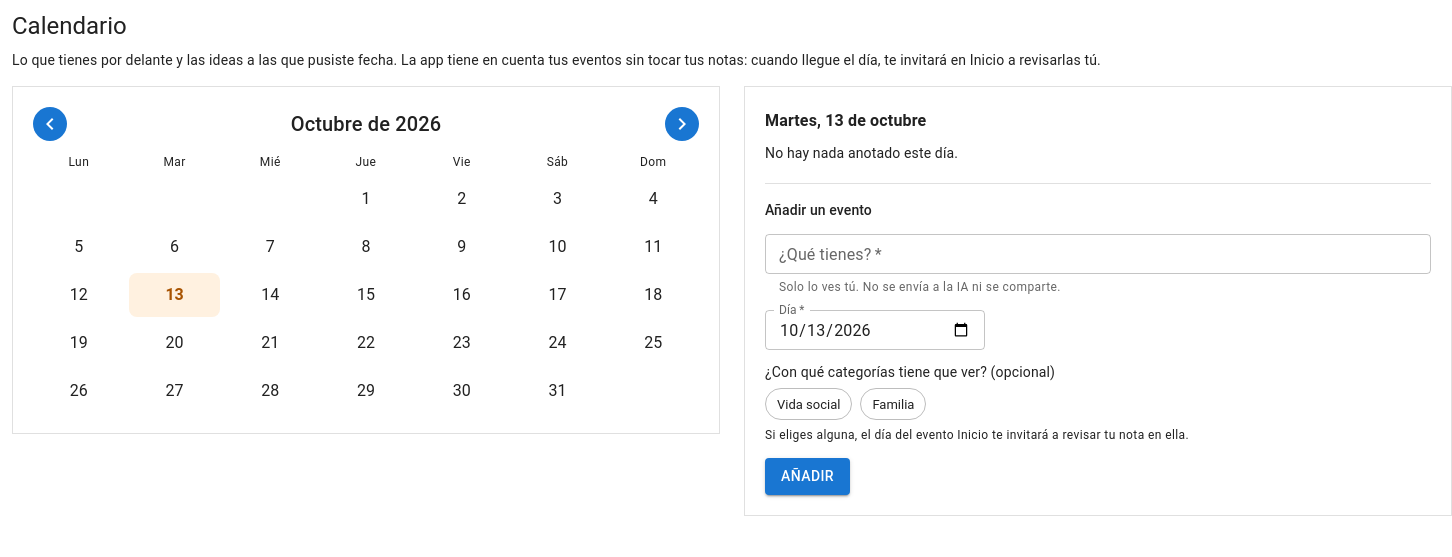
Test: CalendarPage (RF-48) › añade un evento en el día elegido, con varias categorías activas (las inactivas no se ofrecen), y aparece sin volver a pedir la lista
Click the button named "sábado, 24 de octubre" at (557, 343), box [512,321,603,365]
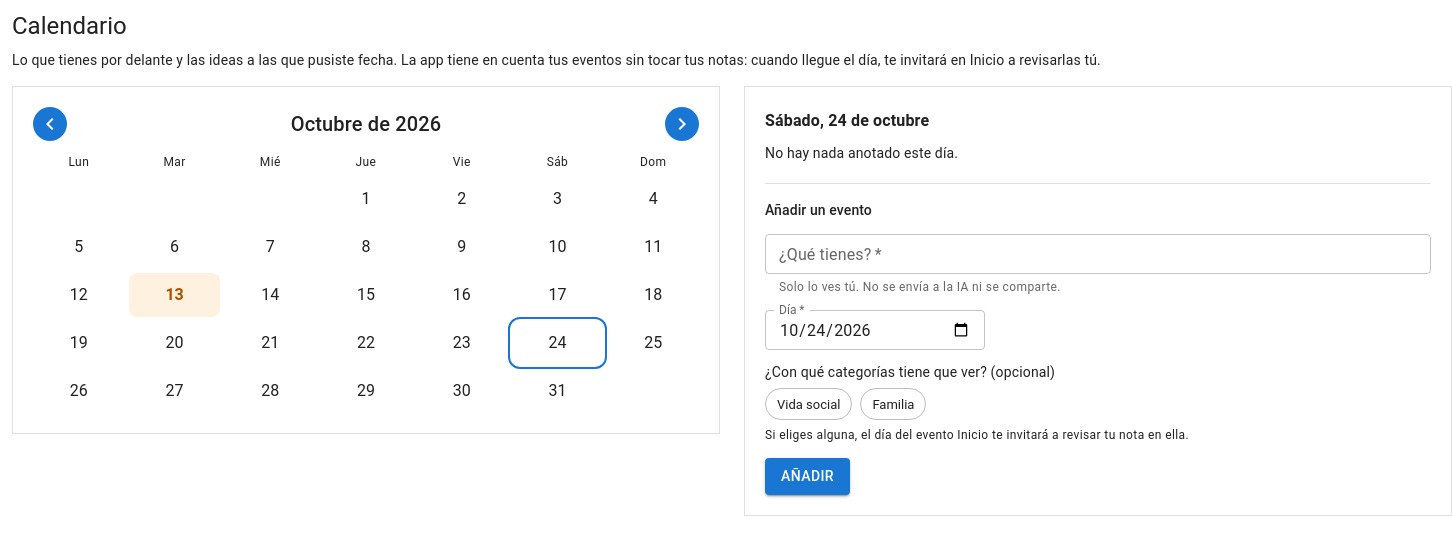
Type "Boda de Marta" into the field labelled "¿Qué tienes? *" at (1098, 254), box [765,234,1431,274]
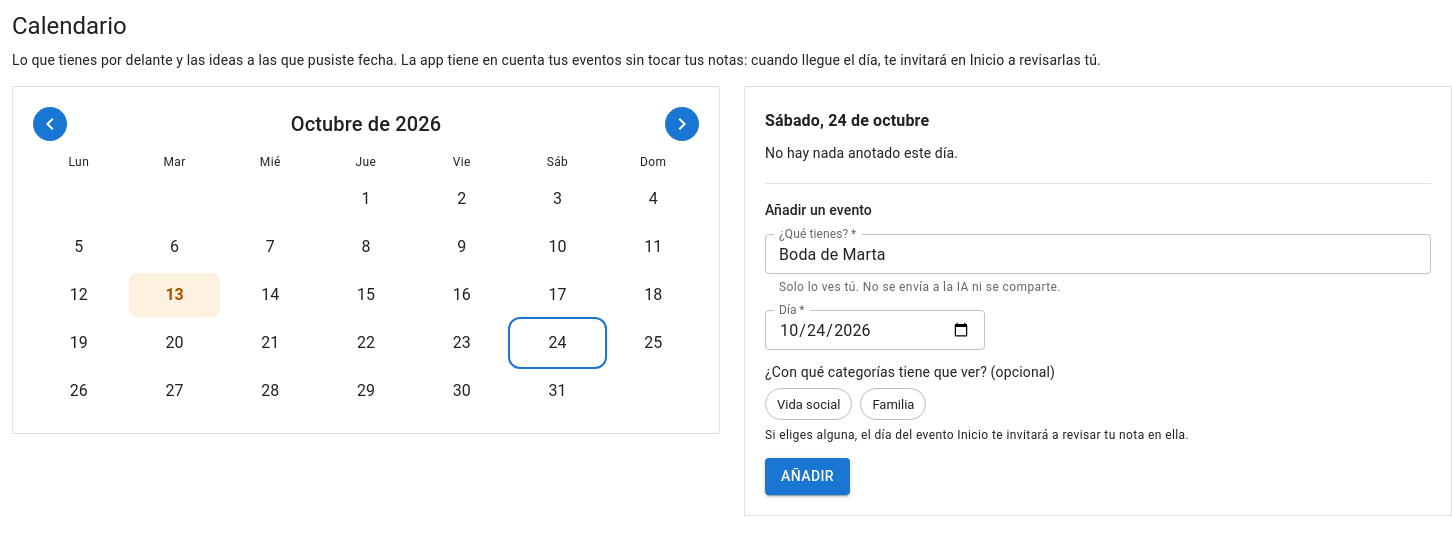
Check: the text "Si eliges alguna, el día del evento" is shown, box [765,428,1189,442]
Click the button "Vida social" at (809, 404), box [765,388,852,420]
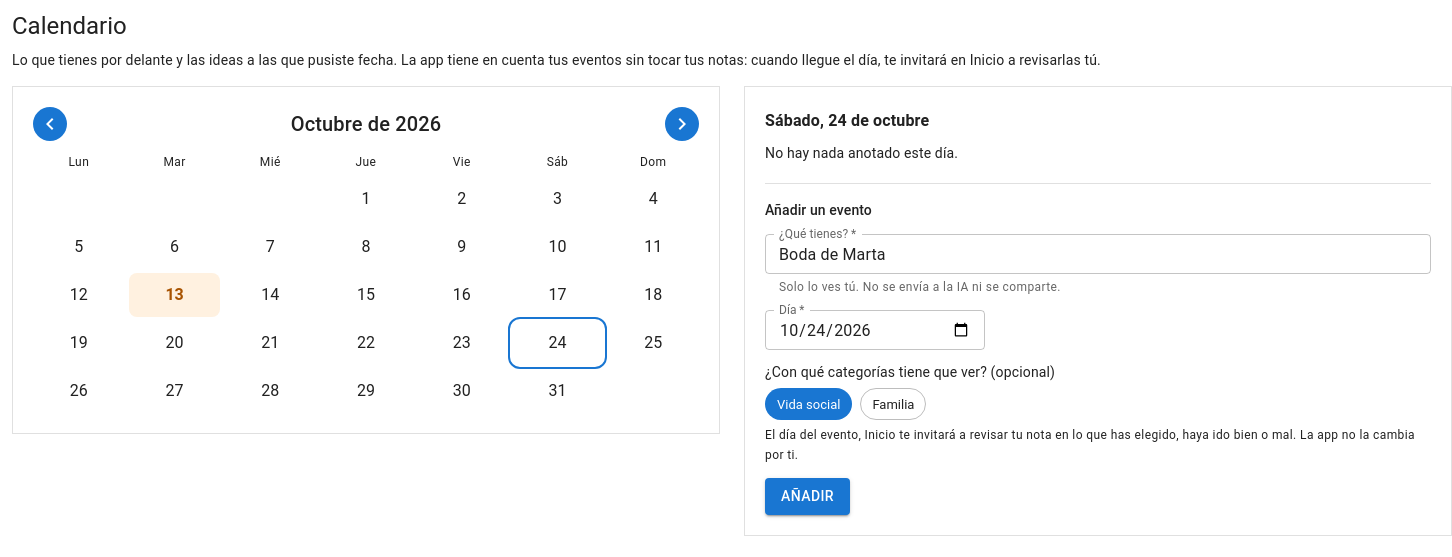
Click the button "Familia" at (893, 404), box [860,388,926,420]
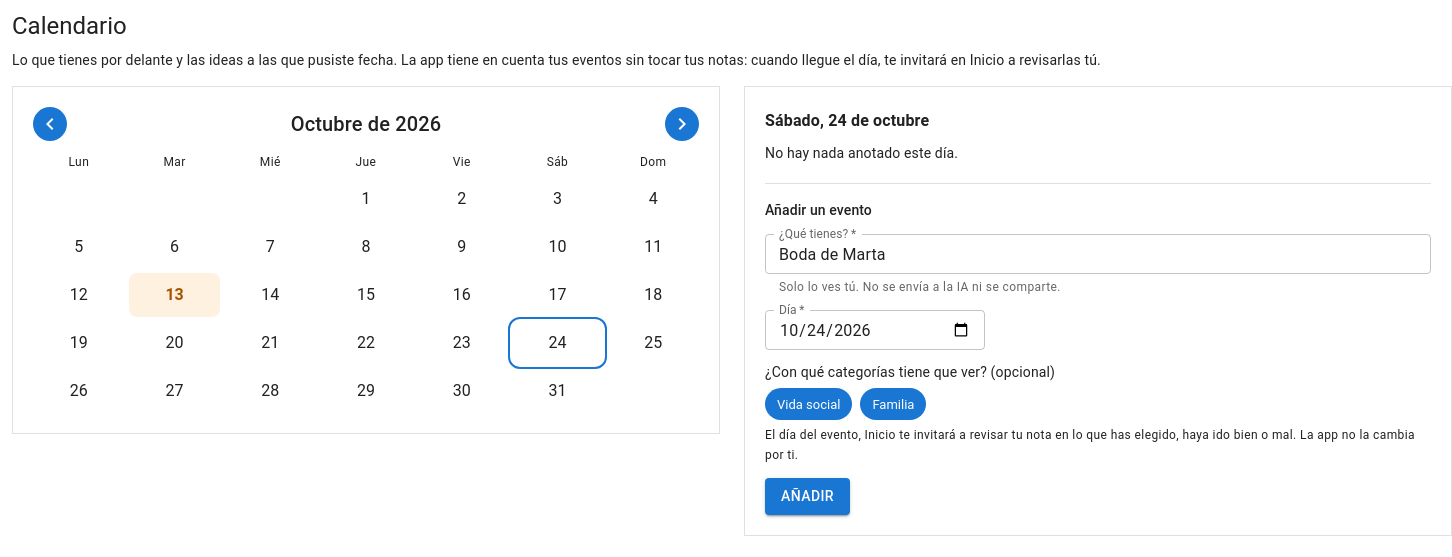
Check: the button "Familia" is pressed, box [860,388,926,420]
Click the button "Añadir" at (808, 496), box [765,478,850,515]
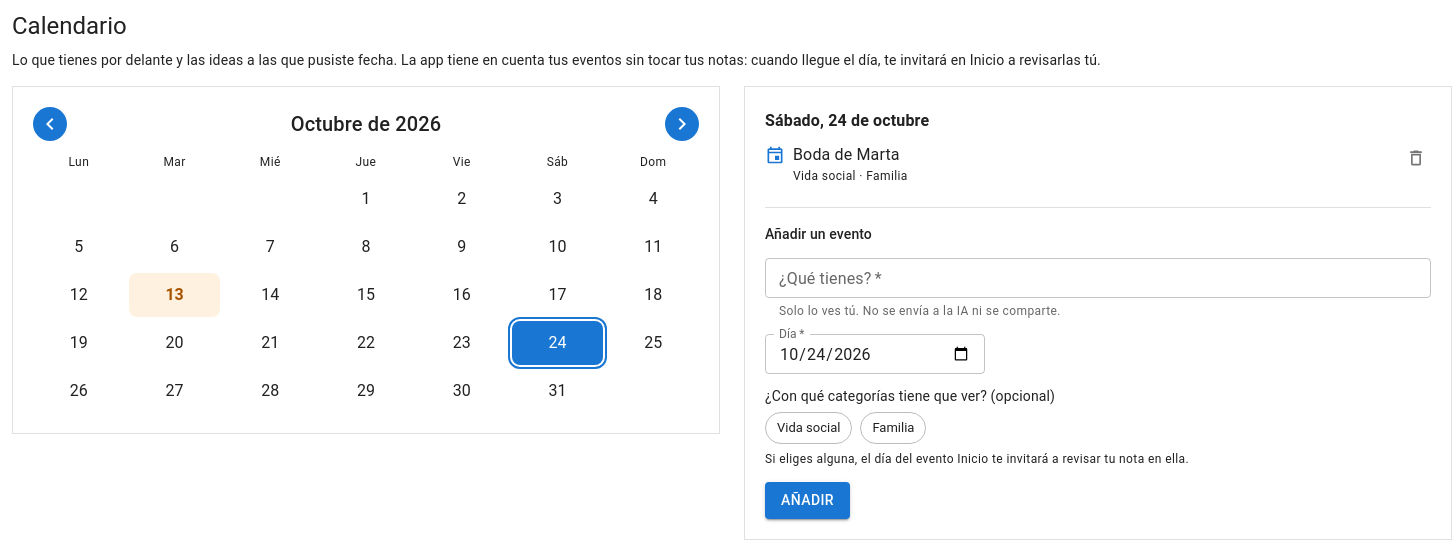
Check: the text "Boda de Marta" is shown, box [793,145,900,164]
